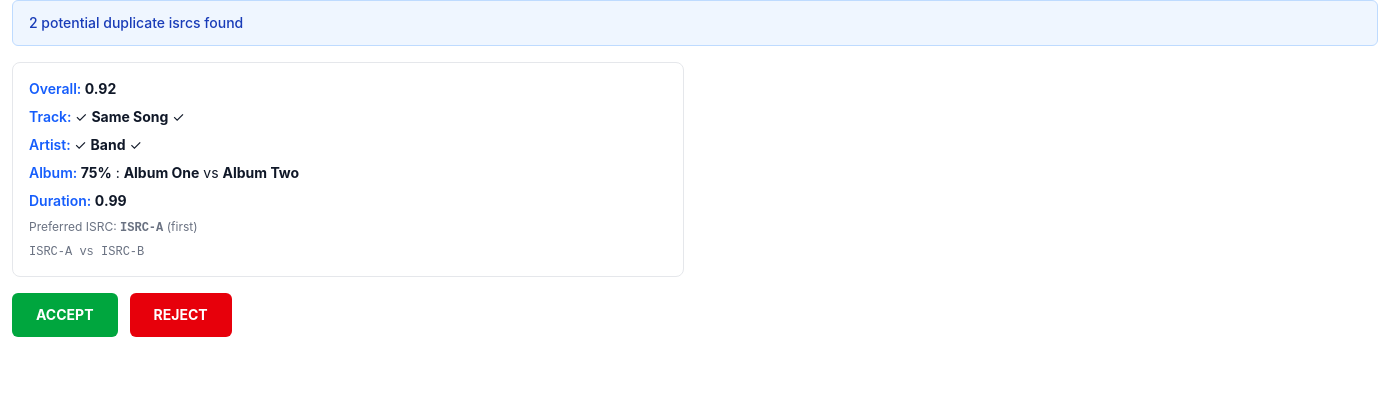
it: IsrcReviewView — decisions › ACCEPT sends both ISRCs + the preferred target, toasts, and advances to the next pair
Expected: the text "Same Song" is shown, [91, 108, 168, 125]
Click the button "ACCEPT" at (65, 315), box [12, 293, 118, 337]
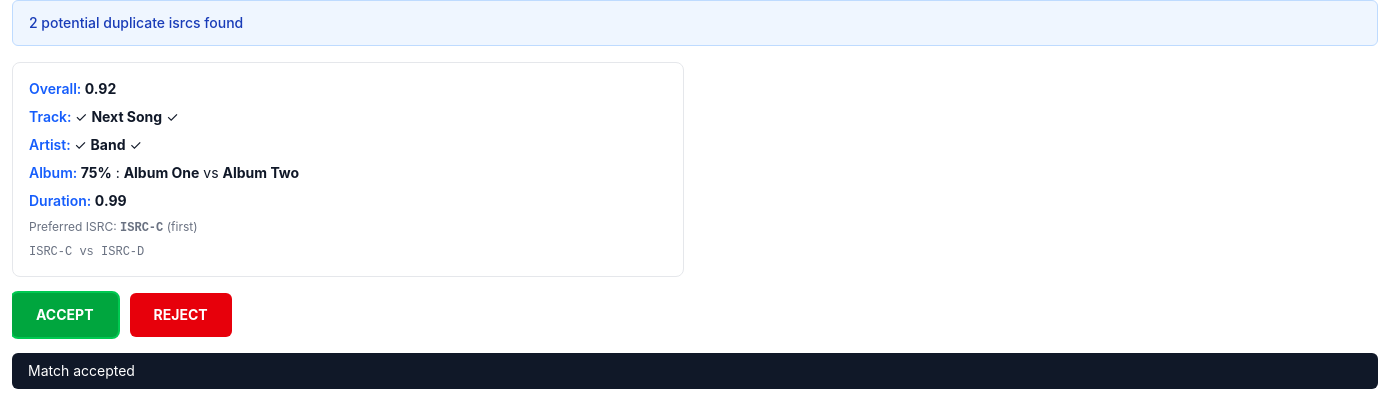
Result: the text "Match accepted" is shown at [12, 353, 1377, 389]
Result: the text "Next Song" is shown at [91, 108, 162, 125]
